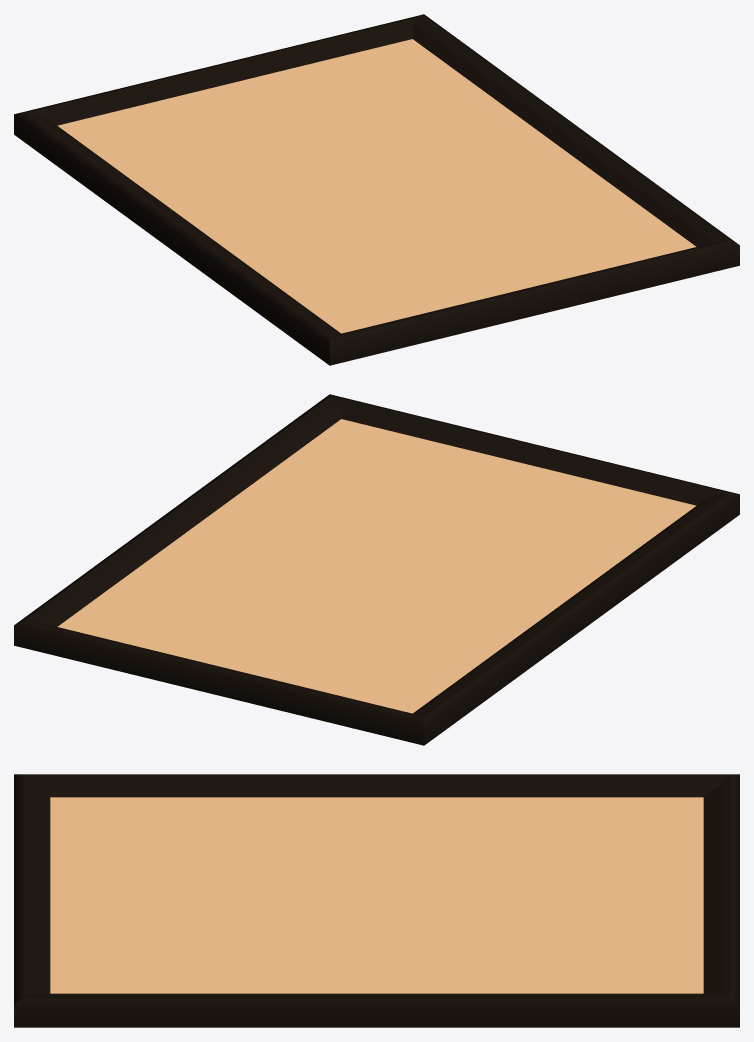
Rendered from photo_frame.fbx.
3 views of the same model, one above another, from view 1: azimuth 30°, elevation 25°; view 2: azimuth 150°, elevation 25°; view 3: azimuth 270°, elevation 25° (orthographic). The views are drawn at different scales.
Parts seen in each view (by area): view 1: frame; view 2: frame; view 3: frame.
Part boxes in pixels (<box>): frame: <box>14,14,739,365</box>; frame: <box>14,394,739,745</box>; frame: <box>14,774,739,1027</box>.
Size of the model in its own units: 30 by 1.61 by 40.
